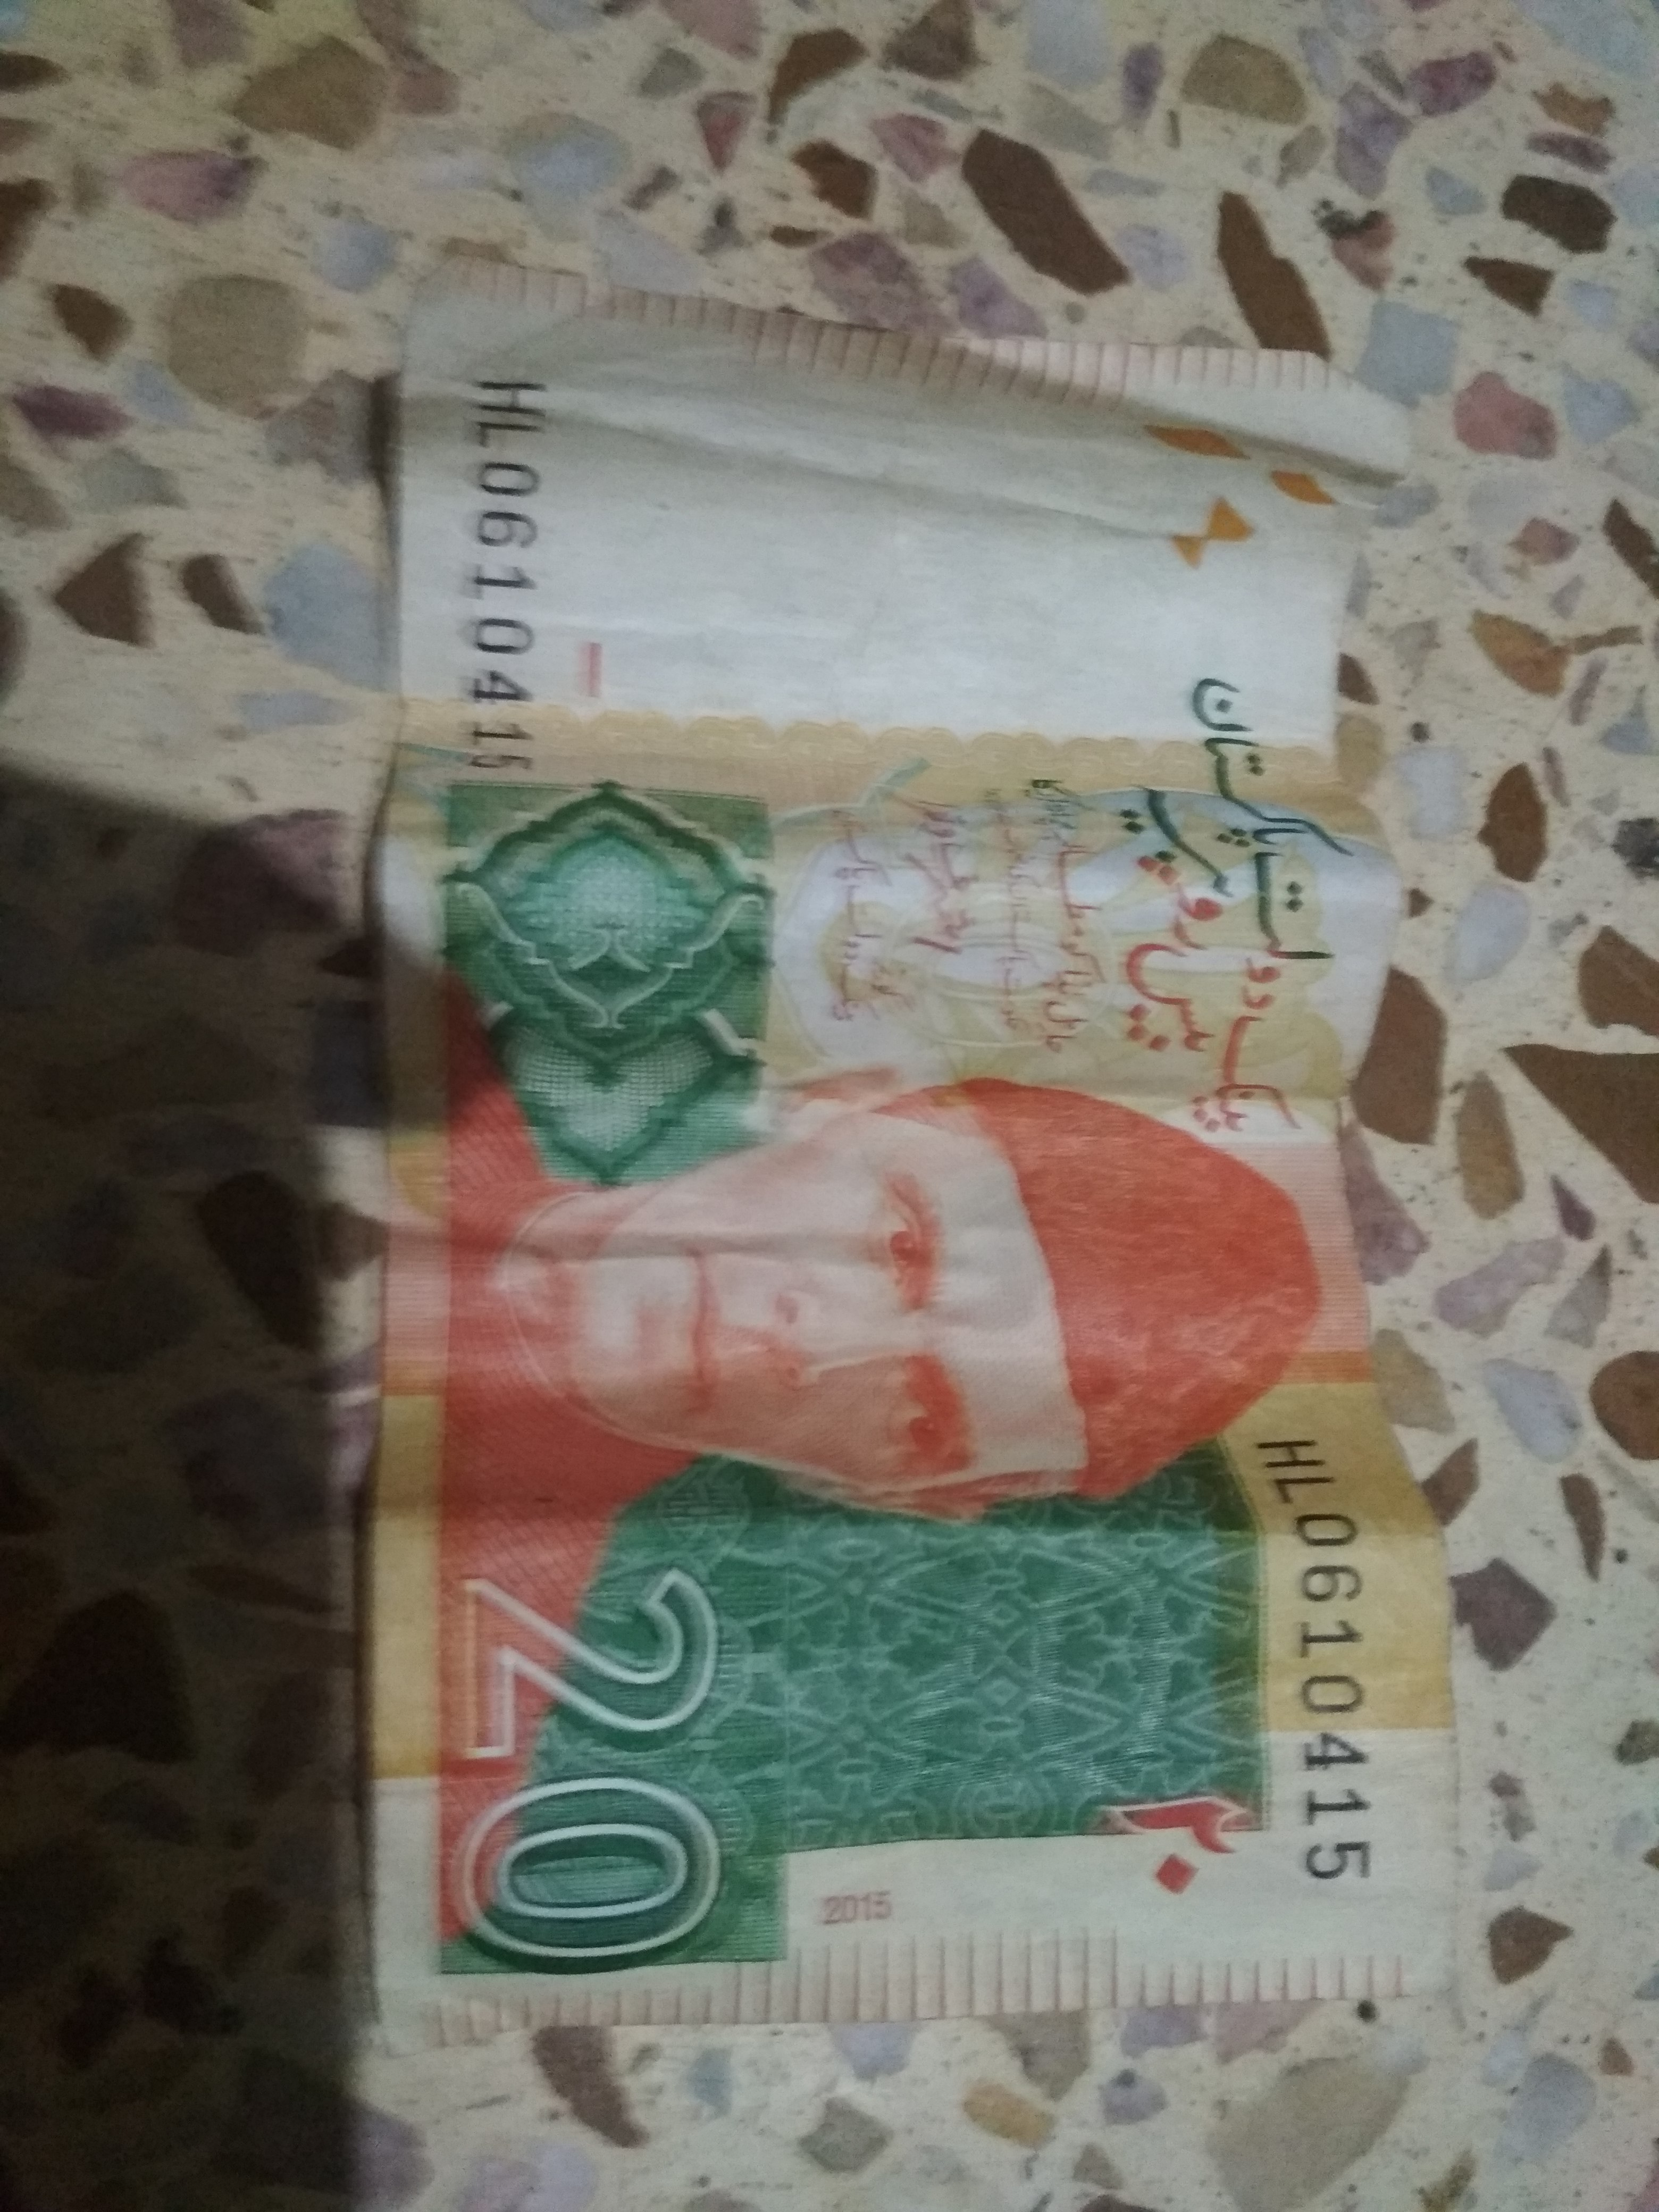20 rupee: (204, 193, 1563, 2095)
